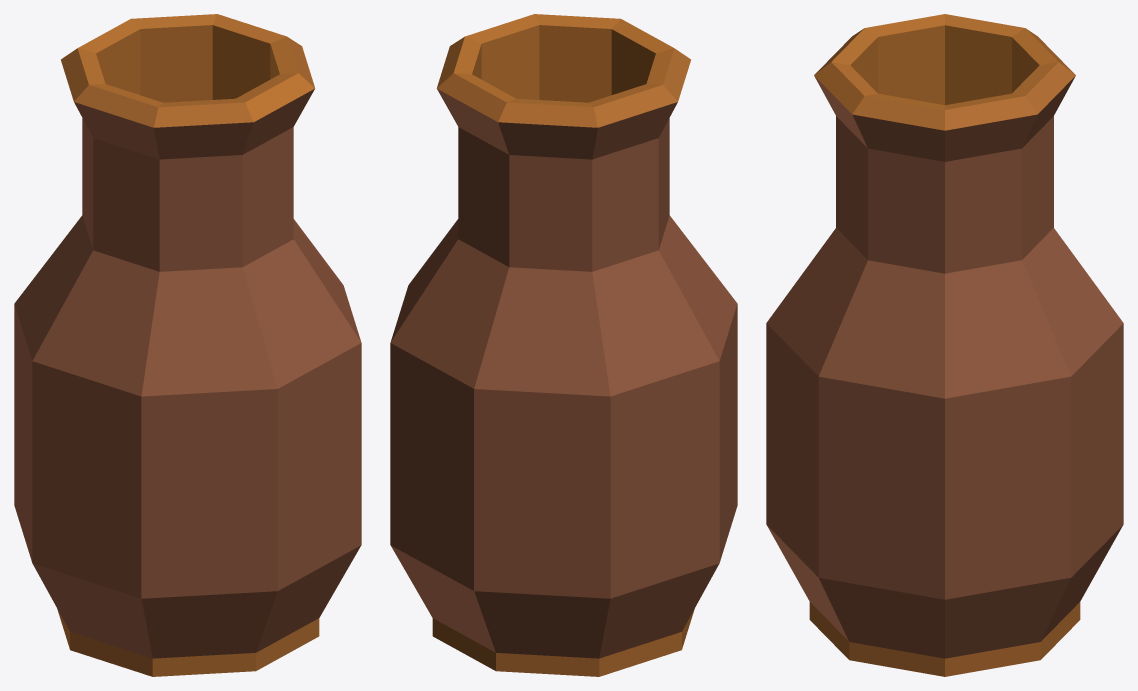
The model's file is jug_darck.fbx.
3 views of the same model, side by side, from view 1: azimuth 30°, elevation 25°; view 2: azimuth 150°, elevation 25°; view 3: azimuth 270°, elevation 25° (orthographic).
Visible parts, largest first — view 1: Circle.001; view 2: Circle.001; view 3: Circle.001.
Part boxes in pixels (x1=…): Circle.001: x1=14, y1=14, x2=361, y2=676; Circle.001: x1=390, y1=14, x2=737, y2=676; Circle.001: x1=766, y1=14, x2=1123, y2=676.
Size of the model in its own units: 19.5 by 33.58 by 19.5.
